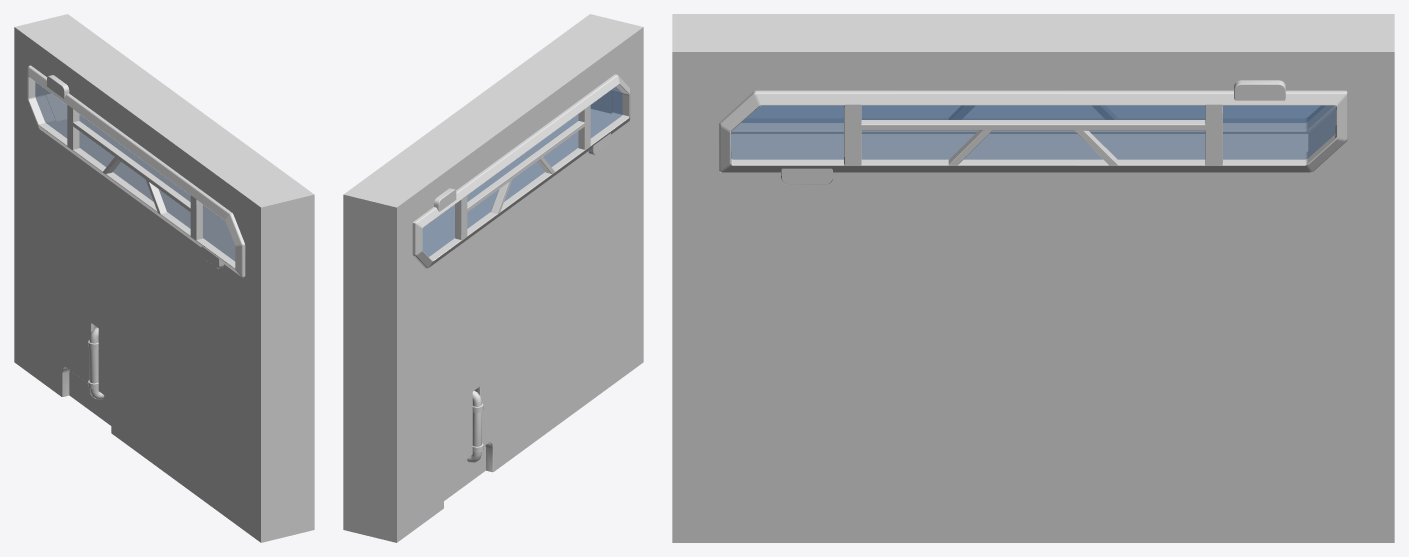
File: Building_04_Wall_05_Left.fbx
3 renders of one model, left to right at view 1: azimuth 30°, elevation 25°; view 2: azimuth 150°, elevation 25°; view 3: azimuth 270°, elevation 25°, orthographic. The views are drawn at different scales.
Visible parts, largest first — view 1: Building_04_Wall_05_Left, Building_04_Wall_05_L_Glass; view 2: Building_04_Wall_05_Left, Building_04_Wall_05_L_Glass; view 3: Building_04_Wall_05_Left, Building_04_Wall_05_L_Glass.
Part boxes in pixels (<box>): Building_04_Wall_05_Left: <box>14,14,314,542</box>; Building_04_Wall_05_L_Glass: <box>35,82,235,260</box>; Building_04_Wall_05_Left: <box>343,14,643,542</box>; Building_04_Wall_05_L_Glass: <box>422,87,622,256</box>; Building_04_Wall_05_Left: <box>672,14,1394,542</box>; Building_04_Wall_05_L_Glass: <box>731,105,1335,159</box>.
Bounding box in the file's own units: 0.6155 × 3 × 4.
